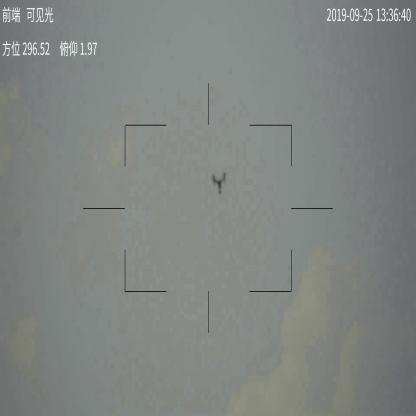uav: (211, 170, 228, 194)
